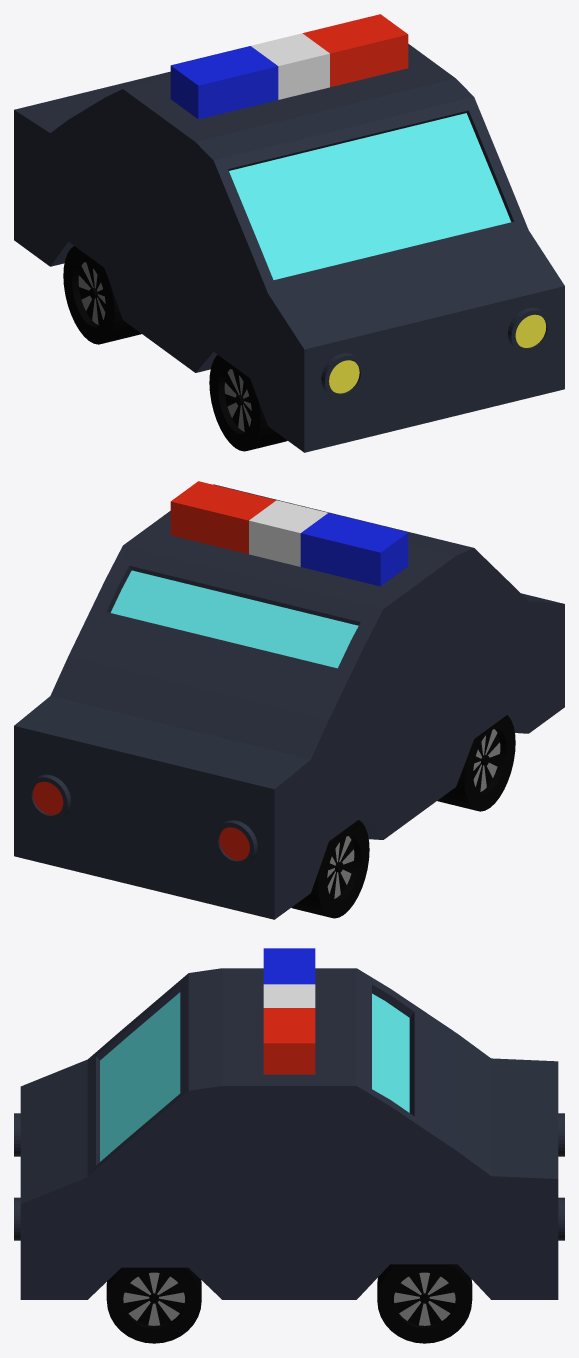
The model's file is CopCar.fbx.
3 renders of one model, top to bottom at view 1: azimuth 30°, elevation 25°; view 2: azimuth 150°, elevation 25°; view 3: azimuth 270°, elevation 25°, orthographic. The views are drawn at different scales.
Visible parts, largest first — view 1: CopCar; view 2: CopCar; view 3: CopCar.
Part boxes in pixels (bbox=[...]): CopCar: bbox=[14, 14, 564, 452]; CopCar: bbox=[14, 481, 564, 919]; CopCar: bbox=[14, 948, 564, 1343].
Bounding box in the file's own units: 510 × 1009 × 586.
